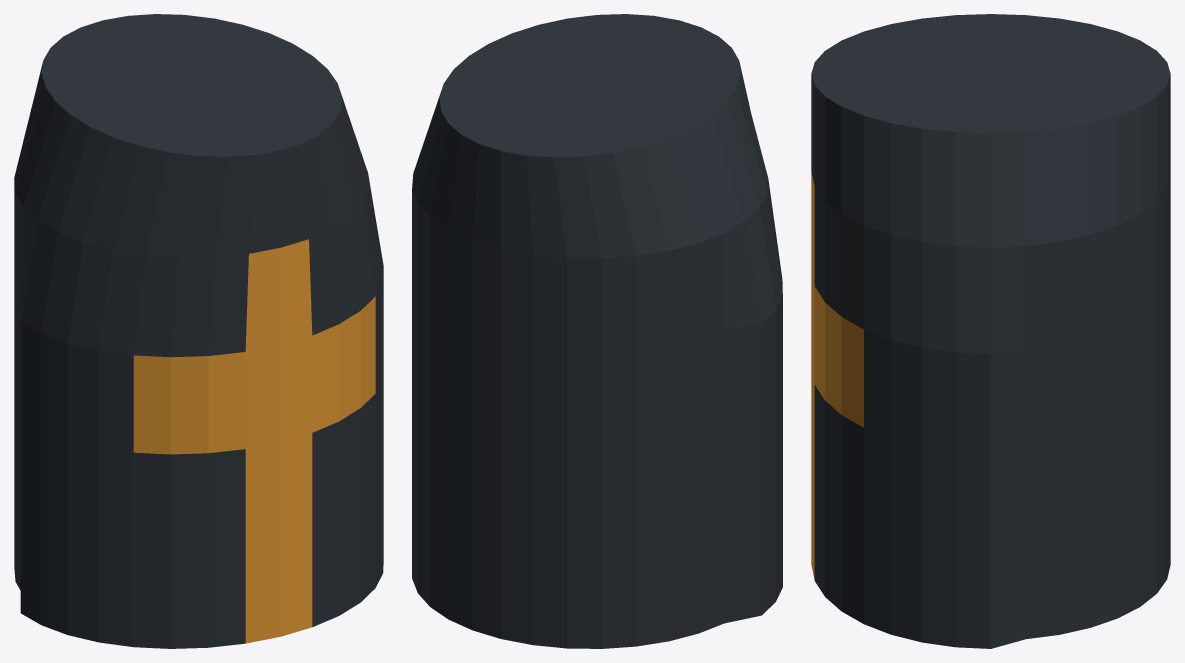
Rendered from enemy.fbx.
3 renders of one model, left to right at view 1: azimuth 30°, elevation 25°; view 2: azimuth 150°, elevation 25°; view 3: azimuth 270°, elevation 25°, orthographic.
Parts seen in each view (by area): view 1: Cylinder; view 2: Cylinder; view 3: Cylinder.
Part boxes in pixels (bbox=[...]): Cylinder: bbox=[14, 14, 383, 648]; Cylinder: bbox=[412, 14, 782, 648]; Cylinder: bbox=[811, 14, 1170, 648].
Size of the model in its own units: 222 by 302 by 200.
